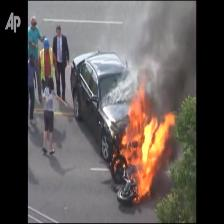fire: (111, 79, 185, 211)
